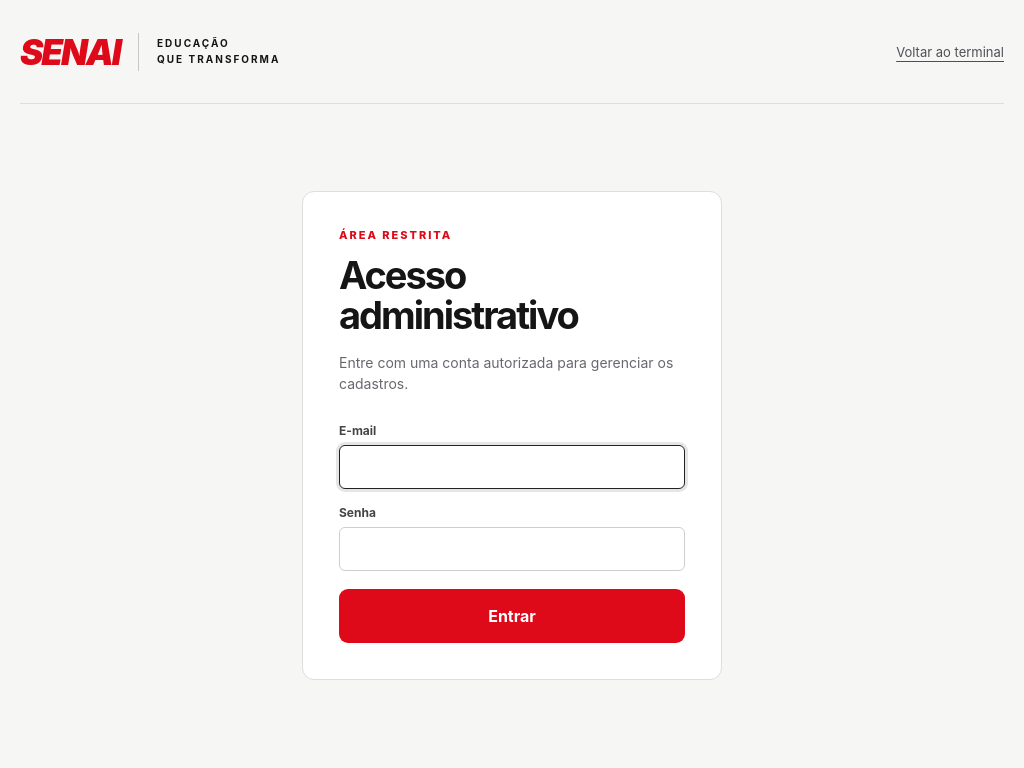
Test: App › recusa conta que não seja ADMIN
Step 1. Type "aluno@senai.br" into the field labelled "E-mail" → (512, 467), box [339, 445, 685, 489]
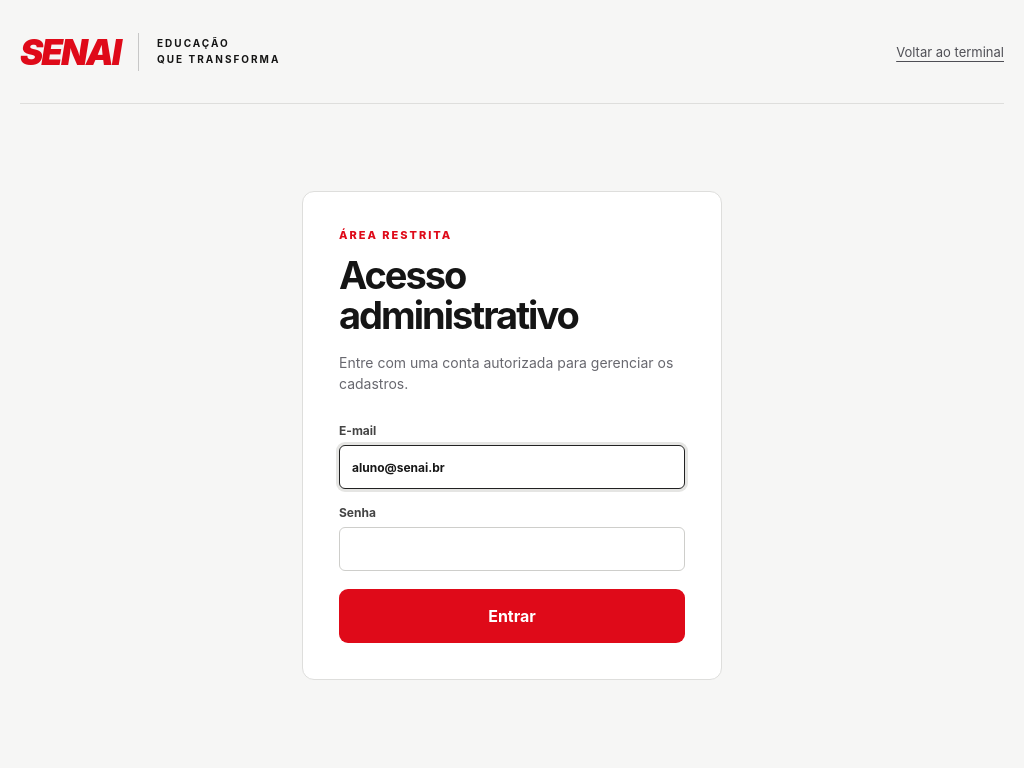
Step 2. Type "12345678" into the password field labelled "Senha" → (512, 549), box [339, 527, 685, 571]
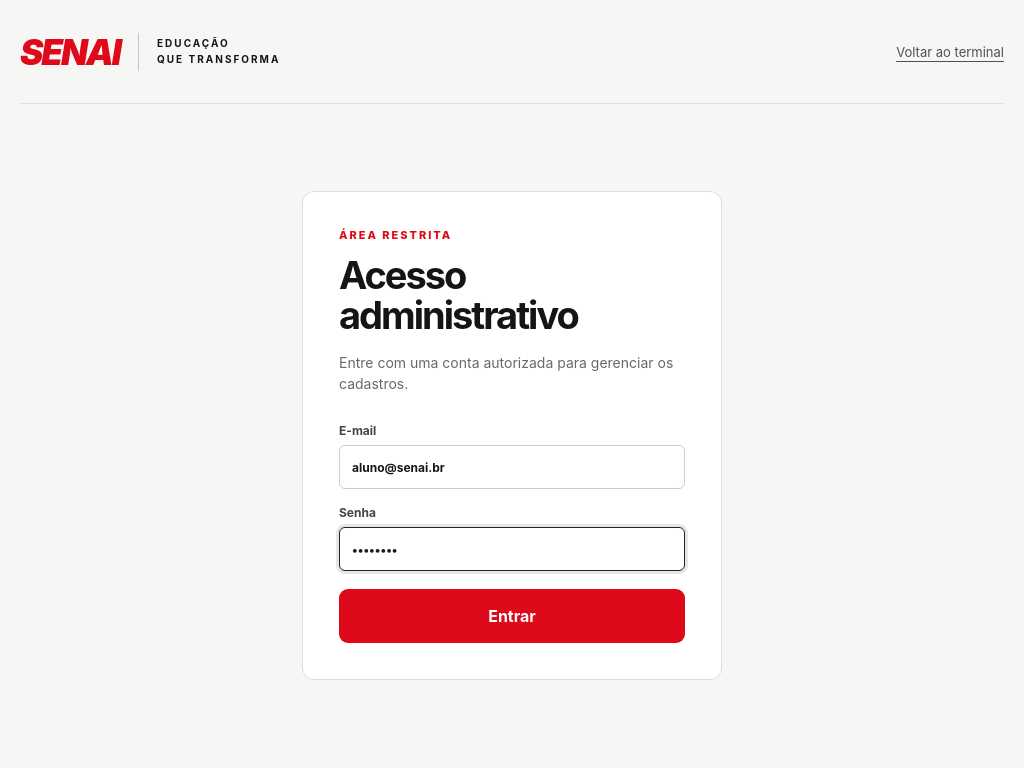
Step 3. Click the button "Entrar" → (512, 616), box [339, 589, 685, 643]
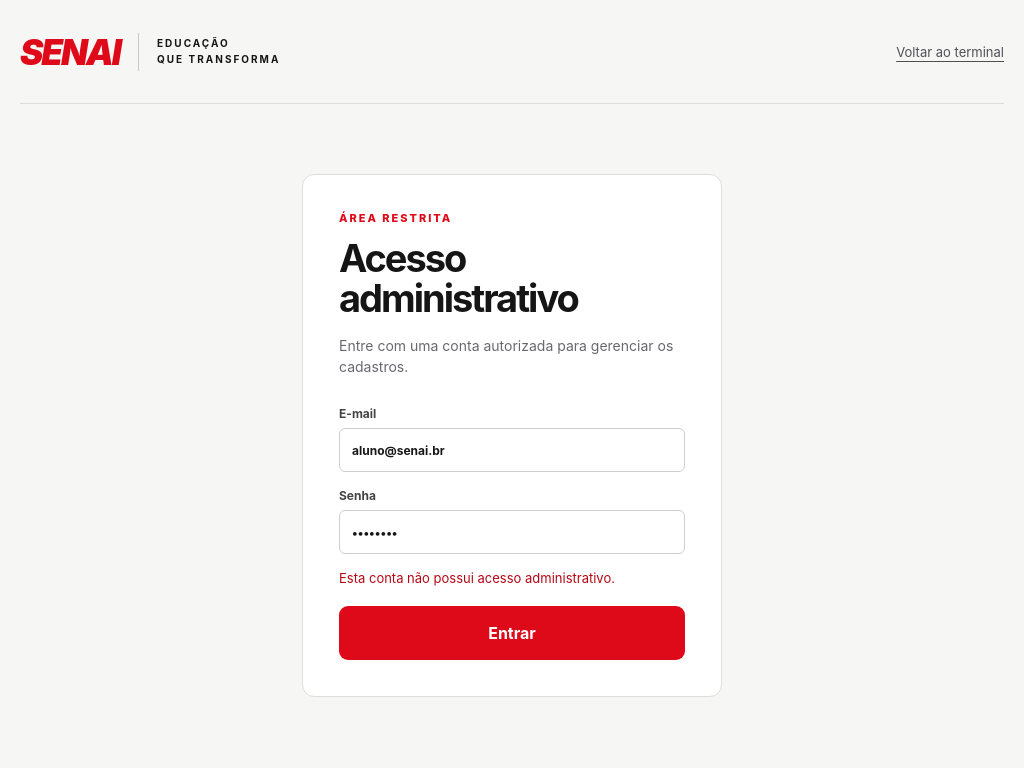
Now the message shows "não possui acesso administrativo", box [339, 570, 615, 586]
